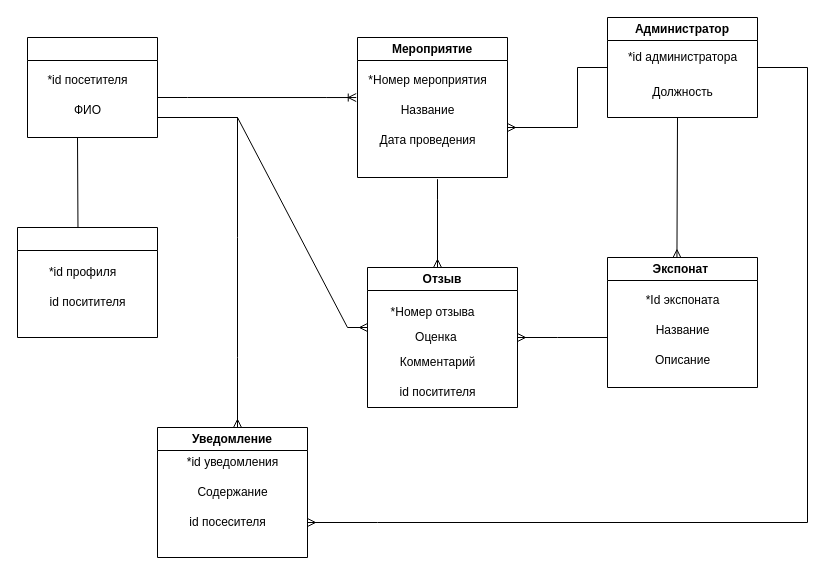
Image size: 833x575. Some labels were removed from this diagram. The shapes that lost their labels are listed below. From the top down, each one's box as (x1, y1, x2, y2) in pixels, then its label:
(26, 36, 158, 138): Посетитель
(16, 226, 158, 338): Профиль
